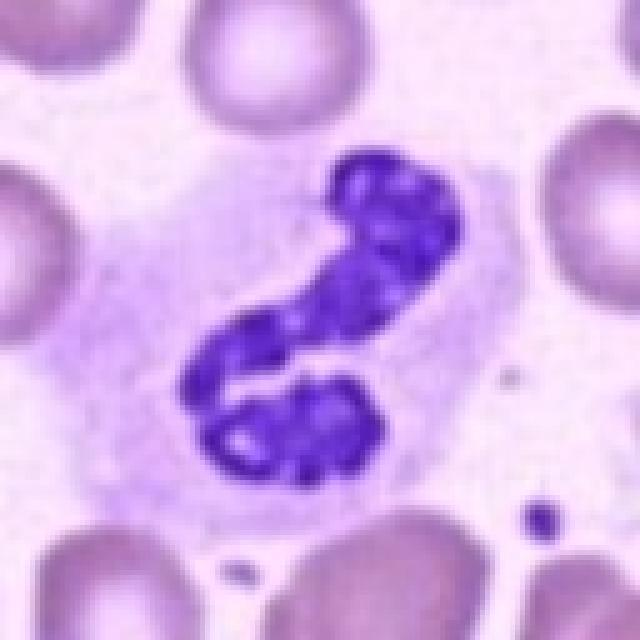neutro: (36, 132, 553, 519)
